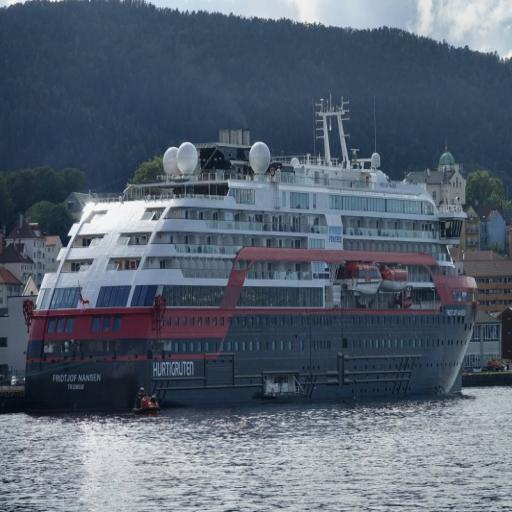cruises: (25, 96, 486, 413)
